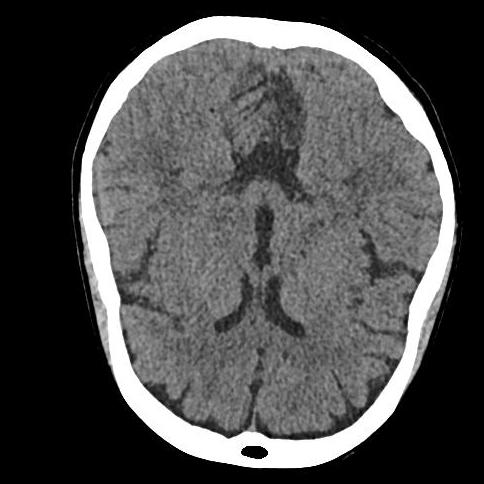Cancer: (248, 68, 313, 170)
